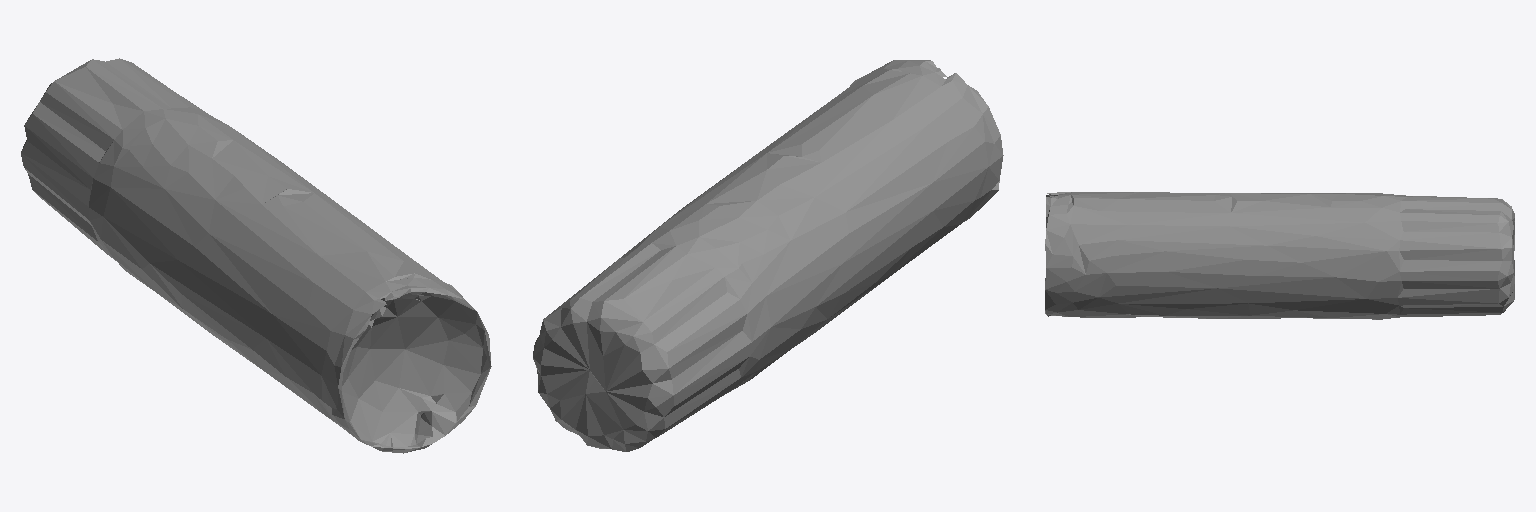
robot.urdf — cube.urdf:
<?xml version="0.0" ?> 
<robot name="cube.urdf"> 
<link name="legobrick"> 
<contact> 
<lateral_friction value="1.0"/>
<rolling_friction value="0.0"/>
<contact_cfm value="0.0"/>
<contact_erp value="1.0"/>
</contact> 
<inertial> 
<origin rpy="0 0 0" xyz="0.0 0.0 0.0"/> 
<mass value="0.1"/> 
<inertia ixx="1" ixy="0" ixz="0" iyy="1" iyz="0" izz="1"/> 
</inertial> 
<visual> 
<origin rpy="1.570796 0 0" xyz="0.0005197212276214809 0.020228777493606114 -0.0007711585677749341"/> 
<geometry> 
<mesh filename="WhippedCream_800_tex.obj" scale="1 1 1"/> 
</geometry> 
<material name="yellow"> 
<color rgba="0.6 0.6 0.6 1"/> 
</material> 
</visual> 
<collision> 
<origin rpy="1.570796 0 0" xyz="0.0005197212276214809 0.020228777493606114 -0.0007711585677749341"/> 
<geometry> 
<mesh filename="WhippedCream_800_tex_col.obj" scale="1 1 1"/> 
</geometry> 
</collision> 
</link> 
</robot>

--- Render facts (derived) ---
Views: 3 orthographic renders of the robot side by side, from view 1: azimuth 30°, elevation 25°; view 2: azimuth 150°, elevation 25°; view 3: azimuth 270°, elevation 25°.
Model cube.urdf with 1 links and 0 joints (none), rooted at legobrick, posed all joints at 0.
Links seen in each view (by area): view 1: legobrick; view 2: legobrick; view 3: legobrick.
Boxes of the visible links, x1,y1,x2,y2 form: legobrick: (21, 58, 491, 453); legobrick: (533, 60, 1003, 451); legobrick: (1045, 192, 1514, 319).
Bounding box of the posed robot: 0.0449 × 0.1666 × 0.045 m (x, y, z).
1 mesh visuals loaded from 1 distinct referenced files (1 OBJ).